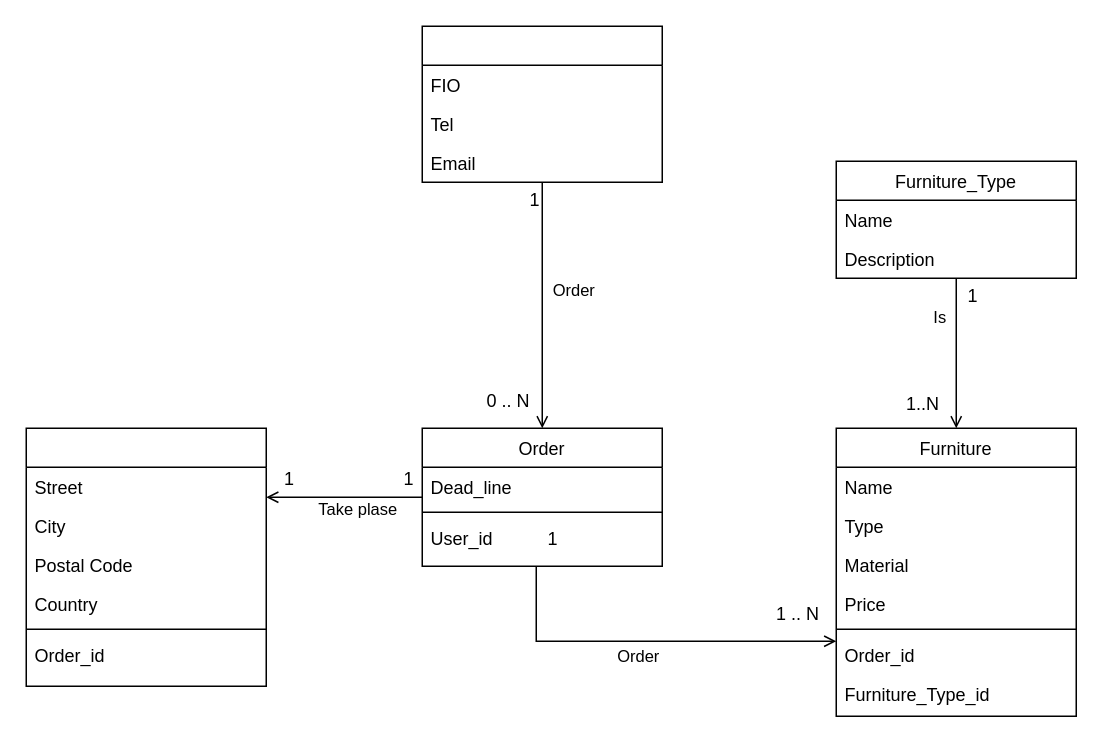
Some shapes in this 1103 by 744 pixel diagram are drawn without their labels. Each missing label, with the box of its shape:
Address: (25, 427, 266, 686)
Client: (421, 25, 662, 182)
